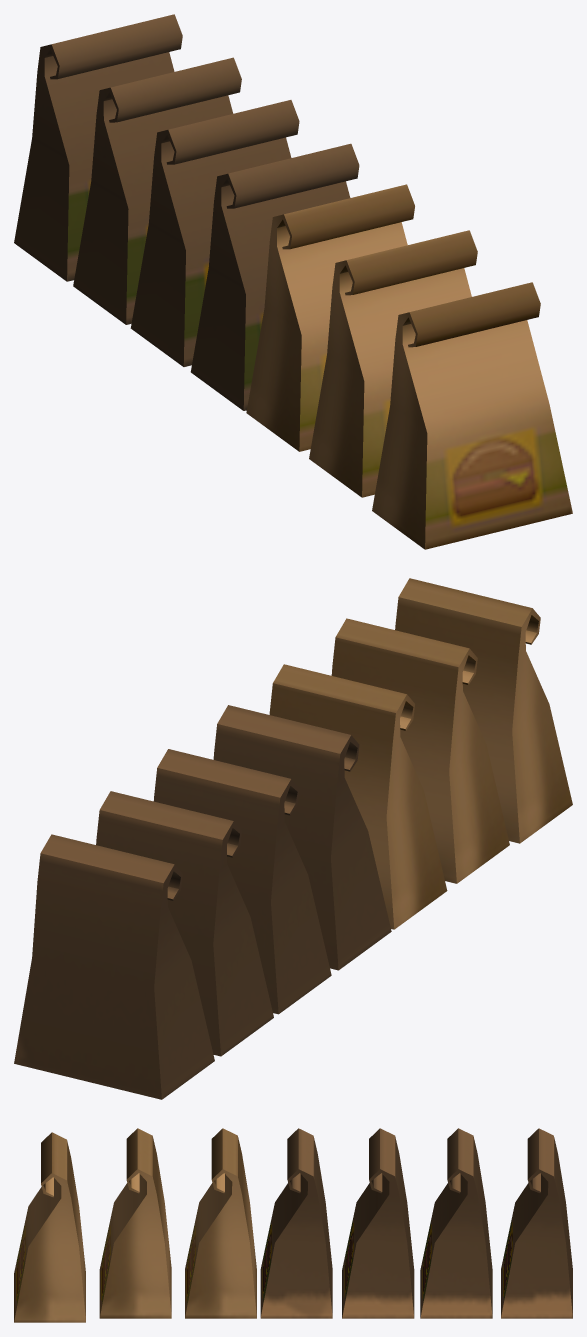
Rendered from Tx_props_paper_bags_60.fbx.
3 renders of one model, top to bottom at view 1: azimuth 30°, elevation 25°; view 2: azimuth 150°, elevation 25°; view 3: azimuth 270°, elevation 25°, orthographic. The views are drawn at different scales.
Visible parts, largest first — view 1: Tx_props_paper_bags; view 2: Tx_props_paper_bags; view 3: Tx_props_paper_bags.
Boxes of the visible parts, x1,y1,x2,y2 form: Tx_props_paper_bags: (14, 14, 572, 549); Tx_props_paper_bags: (14, 578, 572, 1099); Tx_props_paper_bags: (14, 1128, 572, 1322).
Size of the model in its own units: 1.28 by 1.82 by 6.15.
